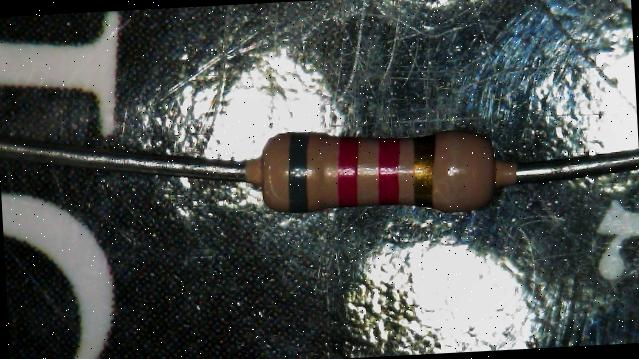gold: (411, 134, 437, 206)
grey: (285, 130, 309, 212)
red: (336, 136, 358, 206), (377, 138, 398, 204)
resistor: (238, 112, 522, 226)
